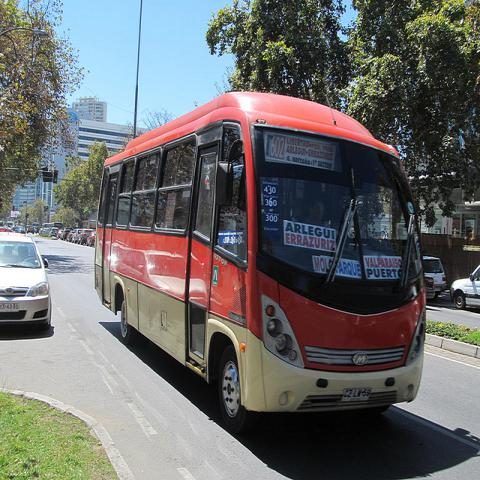bus: (92, 88, 428, 418)
car: (0, 227, 50, 329), (450, 264, 479, 310), (423, 255, 448, 300), (77, 229, 93, 245), (62, 227, 74, 242), (87, 231, 96, 247), (72, 228, 81, 244), (48, 226, 59, 238), (56, 228, 64, 240), (26, 226, 34, 235), (67, 230, 73, 242), (93, 235, 96, 248)
